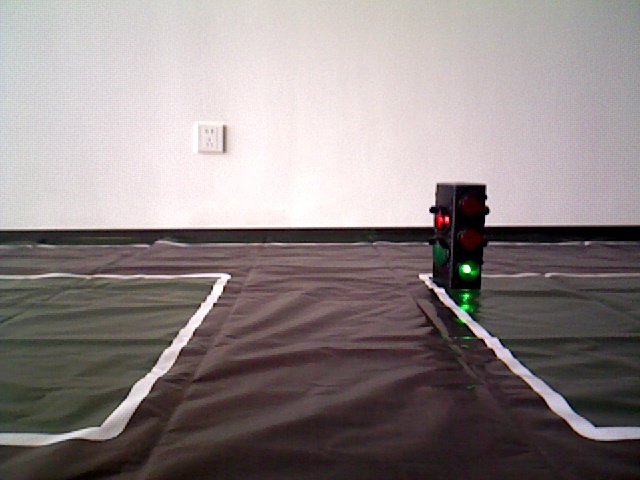green: (433, 189, 483, 283)
